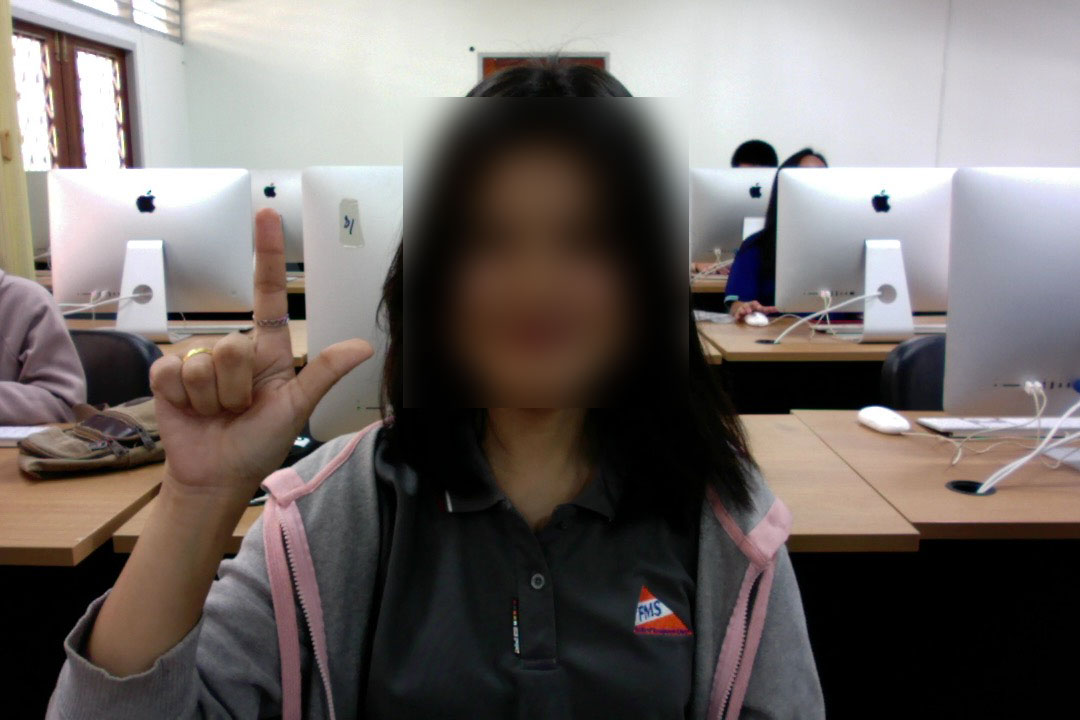lor: (128, 199, 388, 527)
